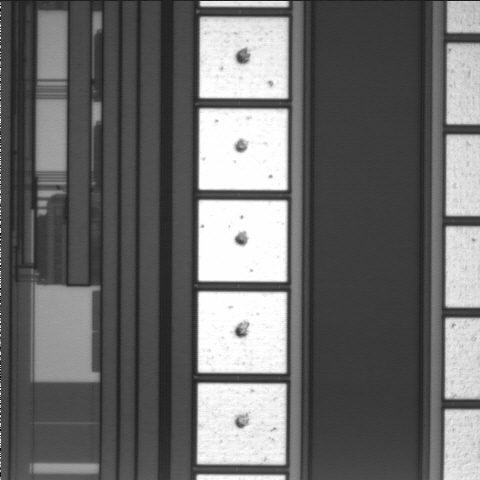pad: (199, 17, 288, 99), (199, 108, 288, 190), (198, 200, 287, 282), (197, 383, 286, 465), (198, 292, 287, 373)
